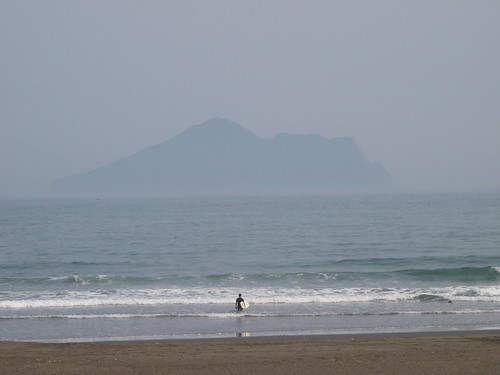turtleIsland: (43, 113, 395, 194)
